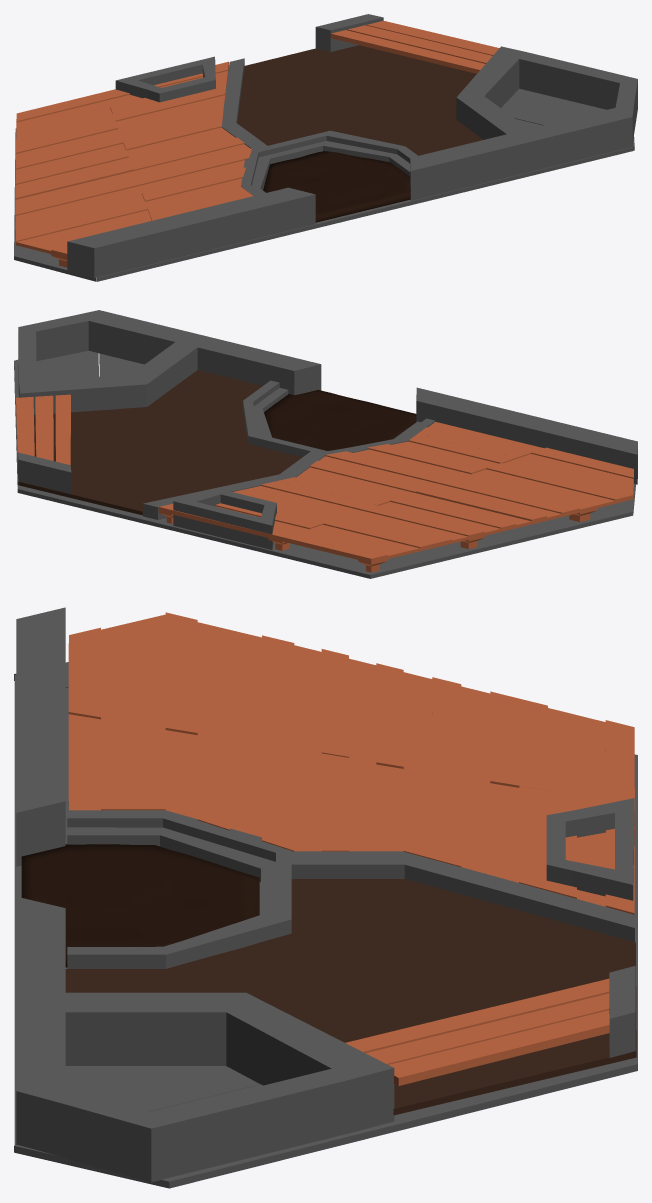
Rendered from MDL_Conservatory_01.fbx.
3 renders of one model, top to bottom at view 1: azimuth 30°, elevation 25°; view 2: azimuth 150°, elevation 25°; view 3: azimuth 270°, elevation 25°, orthographic. The views are drawn at different scales.
Parts seen in each view (by area): view 1: MDL_Conservatory_Wood_01, MDL_Conservatory_Floor_02, MDL_Conservatory_Block_03, MDL_Conservatory_Block_04, MDL_Conservatory_Floor_03, MDL_Conservatory_Bench, MDL_Conservatory_Stairs_01, MDL_Conservatory_Ex, MDL_Conservatory_Floor_01, MDL_Conservatory_Block_05, MDL_Conservatory_Block_02, MDL_Conservatory_Block_01; view 2: MDL_Conservatory_Wood_01, MDL_Conservatory_Floor_02, MDL_Conservatory_Block_03, MDL_Conservatory_Ex, MDL_Conservatory_Block_04, MDL_Conservatory_Floor_03, MDL_Conservatory_Block_05, MDL_Conservatory_Bench, MDL_Conservatory_Stairs_01, MDL_Conservatory_Block_01, MDL_Conservatory_Block_02, MDL_Conservatory_Floor_01; view 3: MDL_Conservatory_Wood_01, MDL_Conservatory_Block_03, MDL_Conservatory_Floor_02, MDL_Conservatory_Floor_03, MDL_Conservatory_Stairs_01, MDL_Conservatory_Bench, MDL_Conservatory_Block_04, MDL_Conservatory_Block_02, MDL_Conservatory_Ex, MDL_Conservatory_Floor_01, MDL_Conservatory_Block_05, MDL_Conservatory_Block_01.
Part boxes in pixels (x1,y1,x2,y2): MDL_Conservatory_Wood_01: (15, 61, 252, 267); MDL_Conservatory_Floor_02: (237, 45, 483, 155); MDL_Conservatory_Block_03: (410, 46, 637, 200); MDL_Conservatory_Block_04: (67, 187, 315, 278); MDL_Conservatory_Floor_03: (263, 151, 410, 222); MDL_Conservatory_Bench: (330, 20, 499, 73); MDL_Conservatory_Stairs_01: (241, 130, 417, 195); MDL_Conservatory_Ex: (14, 88, 634, 281); MDL_Conservatory_Floor_01: (97, 119, 633, 281); MDL_Conservatory_Block_05: (115, 56, 215, 102); MDL_Conservatory_Block_02: (221, 58, 267, 149); MDL_Conservatory_Block_01: (315, 14, 383, 51); MDL_Conservatory_Wood_01: (158, 422, 633, 572); MDL_Conservatory_Floor_02: (18, 370, 302, 515); MDL_Conservatory_Block_03: (18, 310, 321, 414); MDL_Conservatory_Ex: (14, 350, 635, 578); MDL_Conservatory_Block_04: (416, 387, 637, 484); MDL_Conservatory_Floor_03: (264, 390, 416, 450); MDL_Conservatory_Block_05: (173, 489, 276, 549); MDL_Conservatory_Bench: (16, 394, 70, 464); MDL_Conservatory_Stairs_01: (243, 380, 435, 456); MDL_Conservatory_Block_01: (17, 452, 71, 493); MDL_Conservatory_Block_02: (143, 451, 325, 519); MDL_Conservatory_Floor_01: (99, 353, 144, 376); MDL_Conservatory_Wood_01: (68, 612, 634, 914); MDL_Conservatory_Block_03: (16, 896, 394, 1182); MDL_Conservatory_Floor_02: (65, 879, 636, 1115); MDL_Conservatory_Floor_03: (21, 844, 259, 967); MDL_Conservatory_Stairs_01: (67, 810, 291, 968); MDL_Conservatory_Bench: (345, 978, 609, 1085); MDL_Conservatory_Block_04: (16, 607, 65, 866); MDL_Conservatory_Block_02: (291, 851, 634, 942); MDL_Conservatory_Ex: (14, 662, 637, 1188); MDL_Conservatory_Floor_01: (14, 675, 260, 1145); MDL_Conservatory_Block_05: (546, 798, 634, 900); MDL_Conservatory_Block_01: (609, 966, 635, 1057).
Size of the model in its own units: 1198 by 62.48 by 582.
